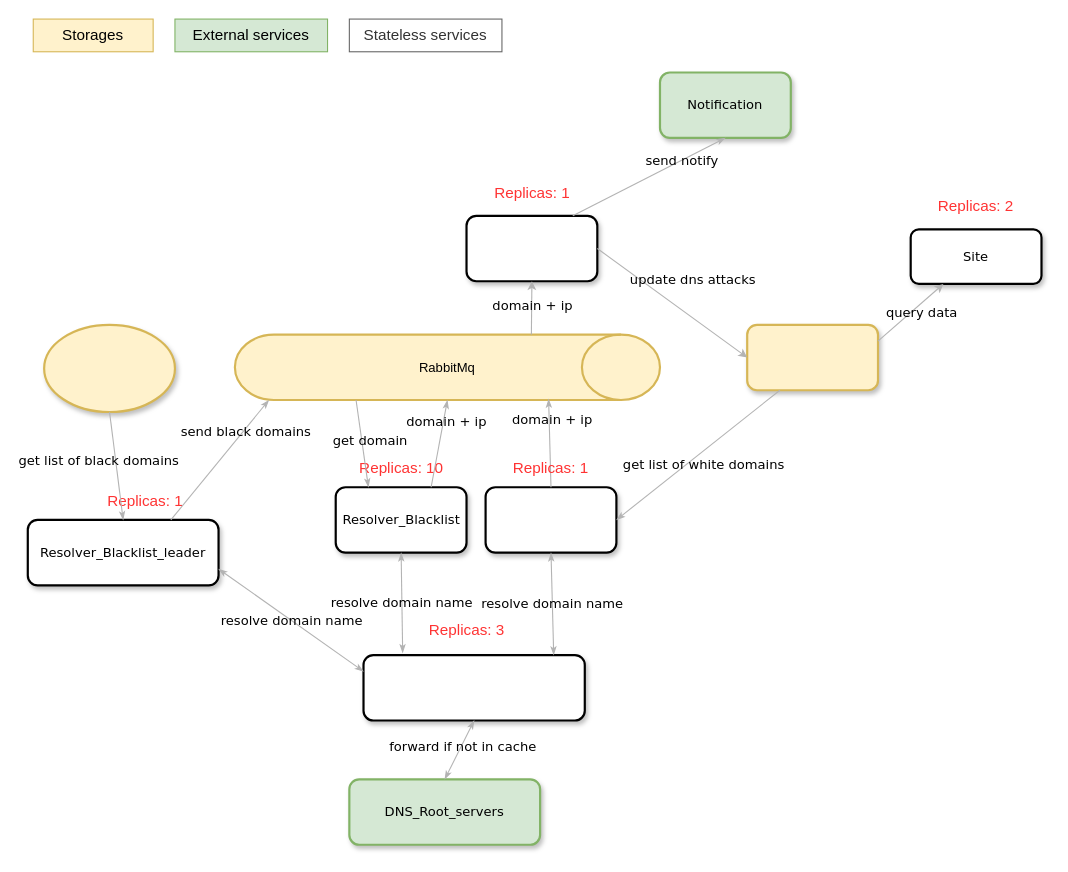
Image size: 1068x872. Some labels were removed from this diagram. The shapes that lost their labels are listed below. From the top down, each one's centre as x and y in pixels, then its label:
At point 532,249: "Analyzer".
At point 110,369: "Redis".
At point 813,358: "DNS_Database".
At point 551,521: "Resolver_Whitelist".
At point 475,689: "Hyperlocal_Relay".
